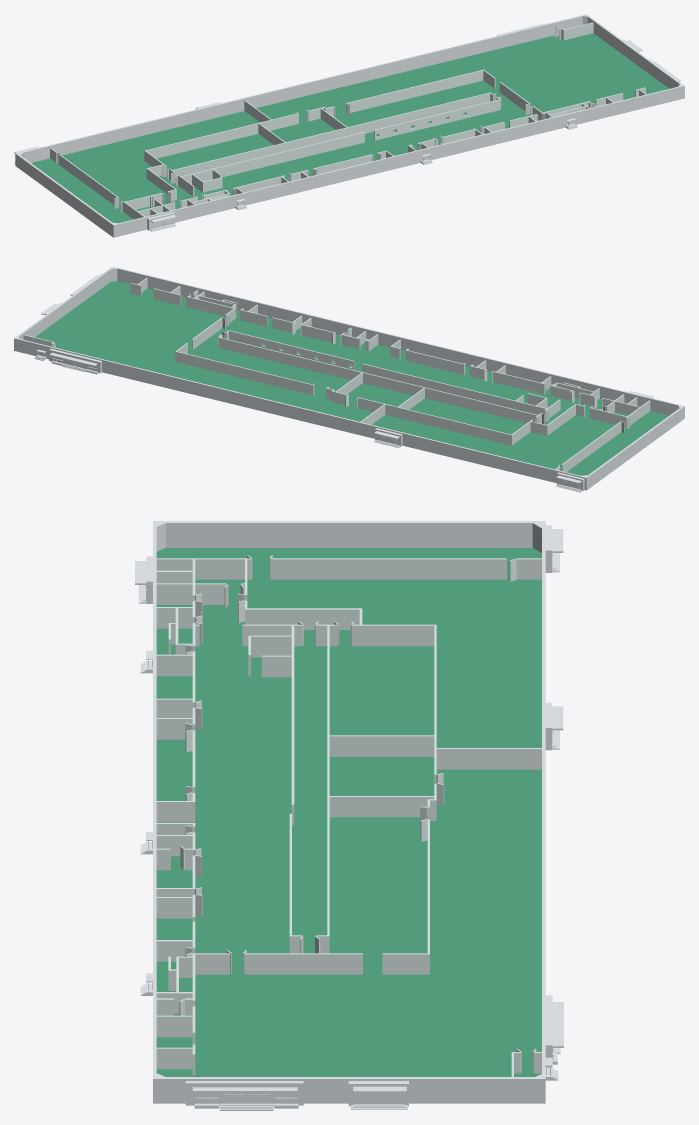
File: wall.glb
The picture shows the model from 3 angles, top to bottom: view 1: azimuth 30°, elevation 25°; view 2: azimuth 150°, elevation 25°; view 3: azimuth 270°, elevation 25°; orthographic projection. The views are drawn at different scales.
Parts seen in each view (by area): view 1: 平面, 立方体.1, 立方体.60, 立方体.64, 立方体.58, 立方体.70, 立方体.61, 立方体.50, 立方体.9, 立方体.8; view 2: 平面, 立方体.1, 立方体.60, 立方体.58, 立方体.64, 立方体.70, 立方体.61, 立方体.50, 立方体.9, 立方体.8, 立方体.21, 立方体 (+3 smaller); view 3: 平面, 立方体.1, 立方体.50, 立方体 (×2), 立方体.77, 立方体.66, 立方体.65, 立方体.76, 立方体.53, 立方体.57, 立方体.36, 立方体.4 (+4 smaller).
Part boxes in pixels (<box>): 平面: <box>31,33,668,223</box>; 立方体.1: <box>15,14,684,237</box>; 立方体.60: <box>172,92,490,176</box>; 立方体.64: <box>181,132,364,183</box>; 立方体.58: <box>144,113,298,160</box>; 立方体.70: <box>346,70,483,113</box>; 立方体.61: <box>374,99,500,140</box>; 立方体.50: <box>59,154,118,207</box>; 立方体.9: <box>313,154,371,175</box>; 立方体.8: <box>232,175,284,194</box>; 平面: <box>35,281,668,475</box>; 立方体.1: <box>14,266,684,490</box>; 立方体.60: <box>218,337,537,422</box>; 立方体.58: <box>358,397,512,445</box>; 立方体.64: <box>362,363,546,414</box>; 立方体.70: <box>175,351,313,395</box>; 立方体.61: <box>228,330,354,369</box>; 立方体.50: <box>561,421,621,472</box>; 立方体.9: <box>405,350,464,374</box>; 立方体.8: <box>493,371,544,394</box>; 立方体.21: <box>186,296,234,316</box>; 立方体: <box>49,348,101,373</box>; 平面: <box>156,548,541,1076</box>; 立方体.1: <box>153,521,545,1103</box>; 立方体.50: <box>271,558,506,579</box>; 立方体 (×2): <box>185,1081,408,1106</box>; 立方体.77: <box>244,953,362,974</box>; 立方体.66: <box>328,735,434,756</box>; 立方体.65: <box>436,748,541,769</box>; 立方体.76: <box>328,796,434,817</box>; 立方体.53: <box>245,608,362,629</box>; 立方体.57: <box>352,624,435,646</box>; 立方体.36: <box>156,558,251,579</box>; 立方体.4: <box>156,583,225,604</box>.
Size of the model in its own units: 4982 by 106 by 1597.
